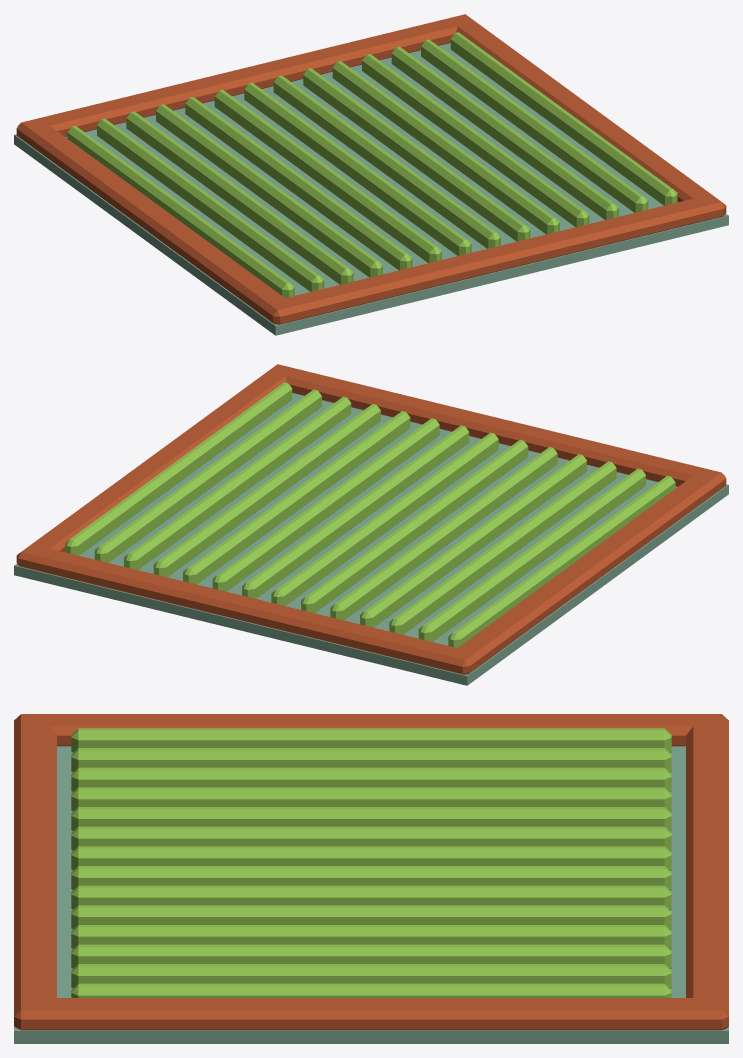
The model's file is ENV_Tile_RicePaddy.fbx.
3 views of the same model, one above another, from view 1: azimuth 30°, elevation 25°; view 2: azimuth 150°, elevation 25°; view 3: azimuth 270°, elevation 25° (orthographic). The views are drawn at different scales.
Parts seen in each view (by area): view 1: ENV_Tile_RicePaddy; view 2: ENV_Tile_RicePaddy; view 3: ENV_Tile_RicePaddy.
Part boxes in pixels (x1,y1,x2,y2): ENV_Tile_RicePaddy: [14, 14, 728, 335]; ENV_Tile_RicePaddy: [14, 364, 728, 685]; ENV_Tile_RicePaddy: [14, 714, 728, 1043].
Size of the model in its own units: 10 by 0.56 by 10.
